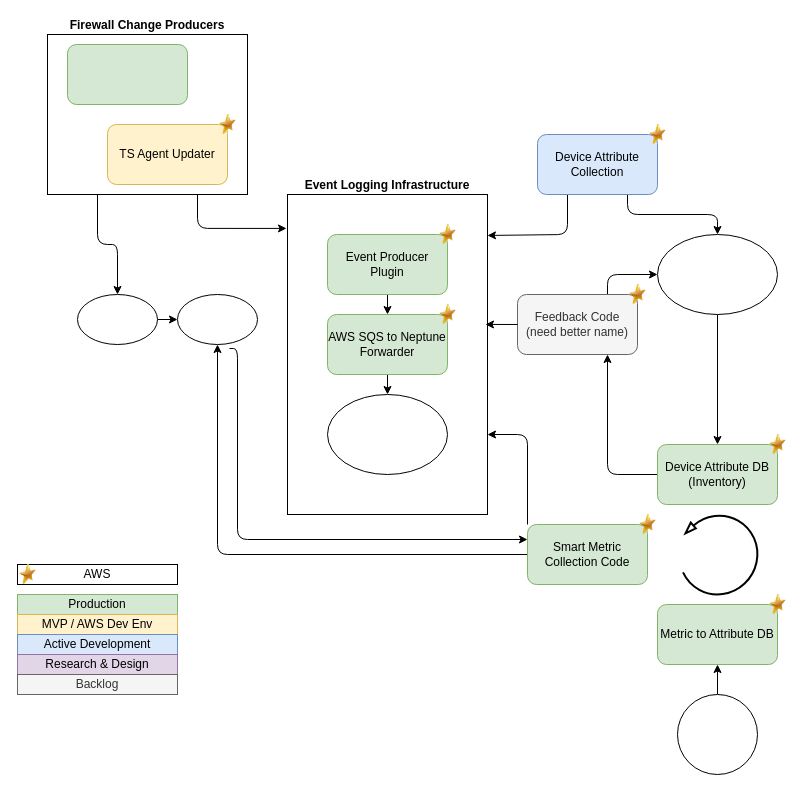
Image size: 805x792. Some labels were removed from this diagram. The shapes that lost their labels are listed below. From the top down, each one's centre as x and y in pixels, then its label:
At pixel 127 74: "Server Decomission".
At pixel 717 274: "Service Now Panorama Firewalls FireMon Coolalerts".
At pixel 117 319: "Panoramas".
At pixel 217 319: "Firewalls".
At pixel 387 434: "Neptune".
At pixel 717 734: "Human Input".
